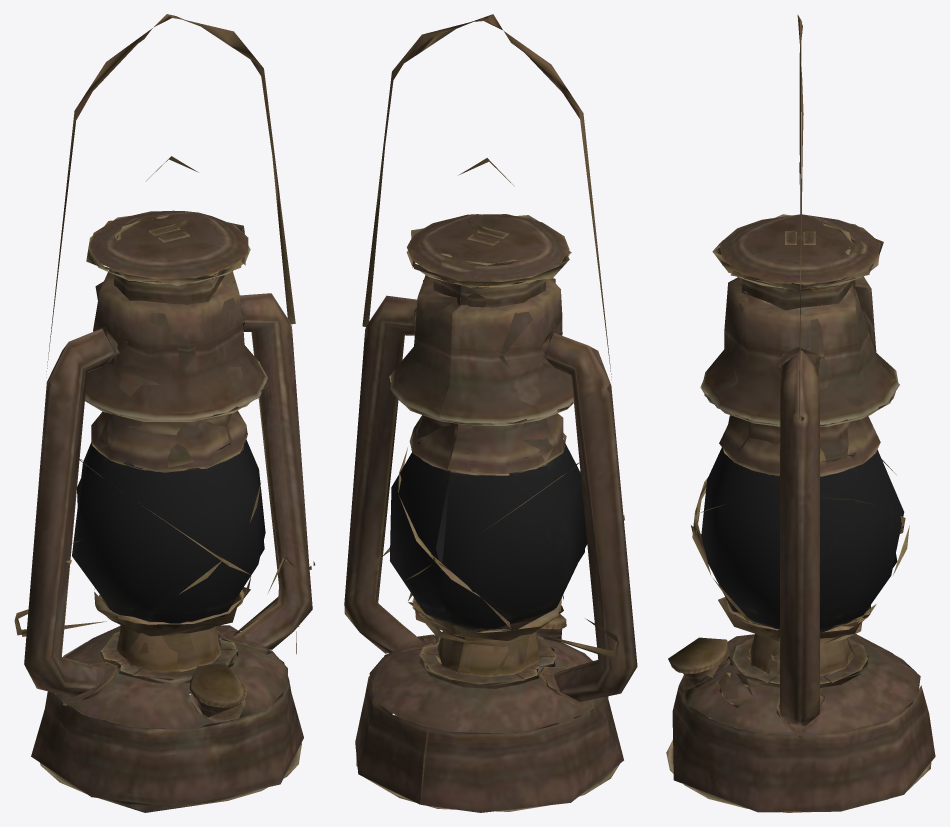
Rendered from ph_Lantern_01.glb.
3 views of the same model, side by side, from view 1: azimuth 30°, elevation 25°; view 2: azimuth 150°, elevation 25°; view 3: azimuth 270°, elevation 25° (orthographic).
Visible parts, largest first — view 1: Lantern_01; view 2: Lantern_01; view 3: Lantern_01.
Boxes of the visible parts, x1,y1,x2,y2 form: Lantern_01: (14,14,315,812); Lantern_01: (344,14,637,812); Lantern_01: (666,14,935,812).
Bounding box in the file's own units: 0.1203 × 0.2945 × 0.0964.
2 materials, 2 textured.
